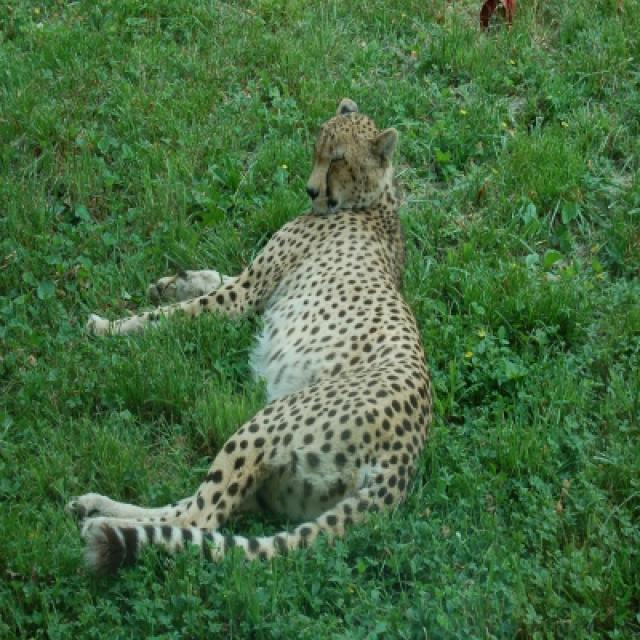Cheetah: (67, 99, 434, 579)
